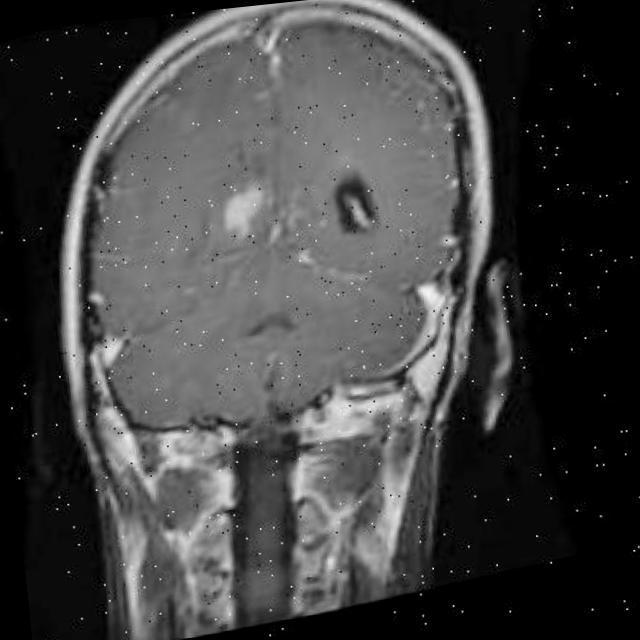LMCI: (149, 156, 296, 308)
MCI: (304, 178, 377, 263)
